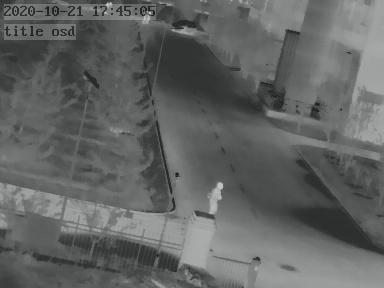person: (207, 178, 222, 218), (142, 8, 151, 24)
vehicle: (171, 18, 198, 36)
